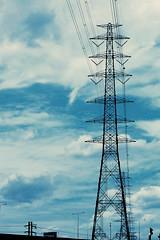power_tower: (83, 19, 141, 240)
